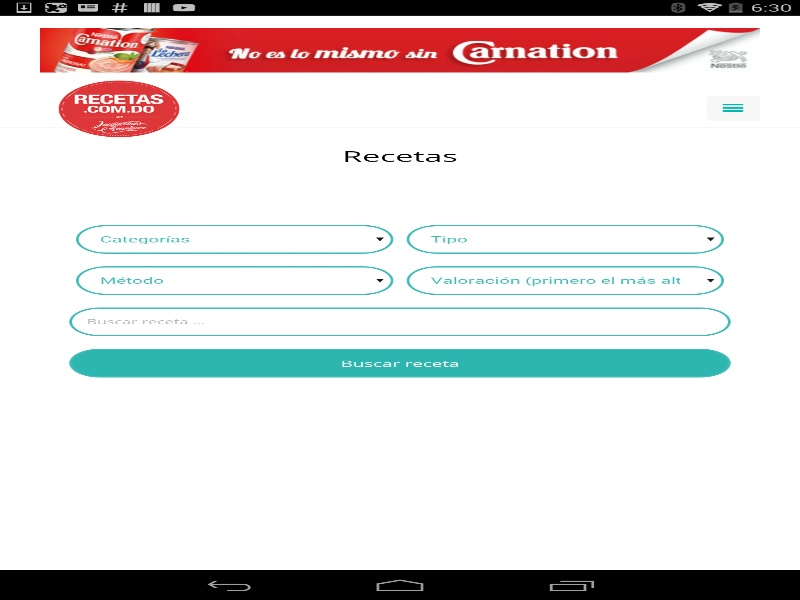Button: (69, 348, 730, 377), (406, 266, 725, 295), (76, 266, 394, 295), (406, 225, 725, 253), (76, 225, 394, 253)
Input: (69, 307, 730, 336)
